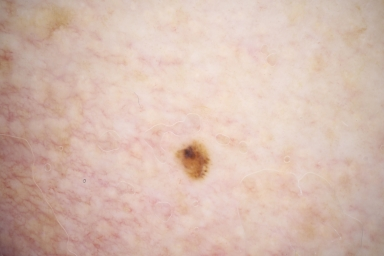melanoma: (179, 141, 210, 179)
